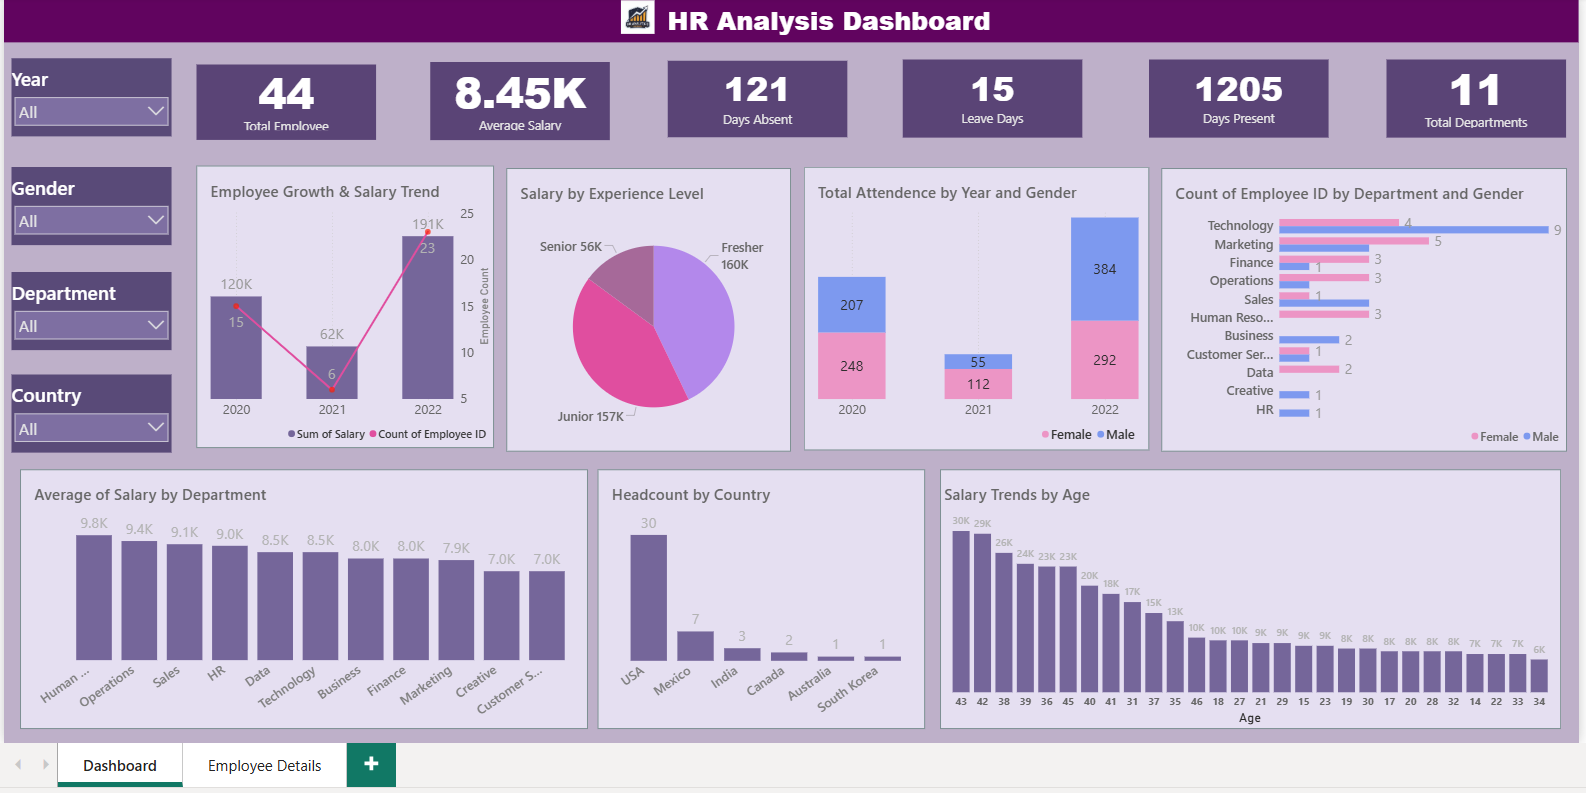

What the dashboard file says about the page in this screenshot:
{"tool":"powerbi","page":{"name":"Dashboard","canvas":[2321,1100],"ordinal":0},"visuals":[{"type":"card","title":"Total Employee","fields":{"Values":["Count(Employee Details.Employee ID)"]},"box":[284.4,98.5,265.8,109.7],"z":0},{"type":"card","title":"Average Salary of Employee","fields":{"Values":["Avg(Employee Details.Salary)"]},"box":[641.2,91.1,265.8,115.2],"z":1000},{"type":"card","title":"Total Departments","fields":{"Values":["Count(Employee Details.Department)"]},"box":[2038.5,91.3,265.1,115.2],"z":2000},{"type":"clusteredBarChart","fields":{"Category":["Employee Details.Department"],"Series":["Employee Details.Gender"],"Y":["CountNonNull(Employee Details.Employee ID)"]},"box":[1706.2,250.9,596.6,418.2],"z":3000},{"type":"textbox","box":[0,3.7,2321.4,63.2],"z":4000},{"type":"image","box":[892.1,0,85.5,59.5],"z":5000},{"type":"slicer","title":"Year","fields":{"Values":["Employee Details.Date of Join"]},"box":[11.2,91.1,236,115.2],"z":6000},{"type":"slicer","title":"Gender","fields":{"Values":["Employee Details.Gender"]},"box":[11.2,250.9,236,115.2],"z":7000},{"type":"slicer","title":"Department","fields":{"Values":["Employee Details.Department"]},"box":[11.2,405.2,236,115.2],"z":8000},{"type":"slicer","title":"Country","fields":{"Values":["Employee Details.Country"]},"box":[11.2,555.7,236,115.2],"z":9000},{"type":"lineClusteredColumnComboChart","title":"Employee Growth & Salary Trend","fields":{"Category":["Employee Details.Date of Join"],"Y":["Sum(Employee Details.Salary)"],"Y2":["CountNonNull(Employee Details.Employee ID)"]},"box":[284.4,250.9,438.6,420],"z":10000},{"type":"card","fields":{"Values":["Sum(Employee Details.Days Absent)"]},"box":[999.9,94.8,265.8,113.4],"z":11000},{"type":"card","fields":{"Values":["Sum(Employee Details.Leave Days)"]},"box":[1341.9,91.1,265.8,115.2],"z":12000},{"type":"card","fields":{"Values":["Sum(Employee Details.Days Present)"]},"box":[1688.6,91.3,265.1,115.2],"z":13000},{"type":"pieChart","title":"Salary by Experience Level","fields":{"Category":["Employee Details.Experience"],"Y":["Sum(Employee Details.Salary)"]},"box":[741.6,250.9,418.2,418.2],"z":14000},{"type":"columnChart","title":"Total Attendence by Year and Gender","fields":{"Category":["Employee Details.Date of Join"],"Y":["Sum(Employee Details.Total Attendance)"],"Series":["Employee Details.Gender"]},"box":[1180.2,250.9,509.3,420],"z":15000},{"type":"columnChart","fields":{"Category":["Employee Details.Department"],"Y":["Avg(Employee Details.Salary)"]},"box":[23.9,697.6,836.7,382.5],"z":16000},{"type":"clusteredColumnChart","title":"Salary Trends by Age","fields":{"Category":["Employee Details.Age"],"Y":["Sum(Employee Details.Salary)"]},"box":[1379.1,697,916.3,382.9],"z":17000},{"type":"columnChart","fields":{"Category":["Employee Details.Country"],"Y":["Employee Details.Headcount"]},"box":[875.8,697.6,482.5,382.5],"z":18000}]}

Visuals, with their boxes on the page's 2321x1100 design canvas (x1, y1, x2, y2). These are canvas units, not pixel positions in the 1586x793 screenshot, which may show the page scaled, cropped or inside an application window:
"Total Employee" card: l=284, t=98, r=550, b=208
"Average Salary of Employee" card: l=641, t=91, r=907, b=206
"Total Departments" card: l=2038, t=91, r=2304, b=206
clusteredBarChart - Employee Details.Department x Employee Details.Gender: l=1706, t=251, r=2303, b=669
textbox: l=0, t=4, r=2321, b=67
image: l=892, t=0, r=978, b=60
"Year" slicer: l=11, t=91, r=247, b=206
"Gender" slicer: l=11, t=251, r=247, b=366
"Department" slicer: l=11, t=405, r=247, b=520
"Country" slicer: l=11, t=556, r=247, b=671
"Employee Growth & Salary Trend" lineClusteredColumnComboChart: l=284, t=251, r=723, b=671
card - Sum(Employee Details.Days Absent): l=1000, t=95, r=1266, b=208
card - Sum(Employee Details.Leave Days): l=1342, t=91, r=1608, b=206
card - Sum(Employee Details.Days Present): l=1689, t=91, r=1954, b=206
"Salary by Experience Level" pieChart: l=742, t=251, r=1160, b=669
"Total Attendence by Year and Gender" columnChart: l=1180, t=251, r=1690, b=671
columnChart - Employee Details.Department x Avg(Employee Details.Salary): l=24, t=698, r=861, b=1080
"Salary Trends by Age" clusteredColumnChart: l=1379, t=697, r=2295, b=1080
columnChart - Employee Details.Country x Employee Details.Headcount: l=876, t=698, r=1358, b=1080
